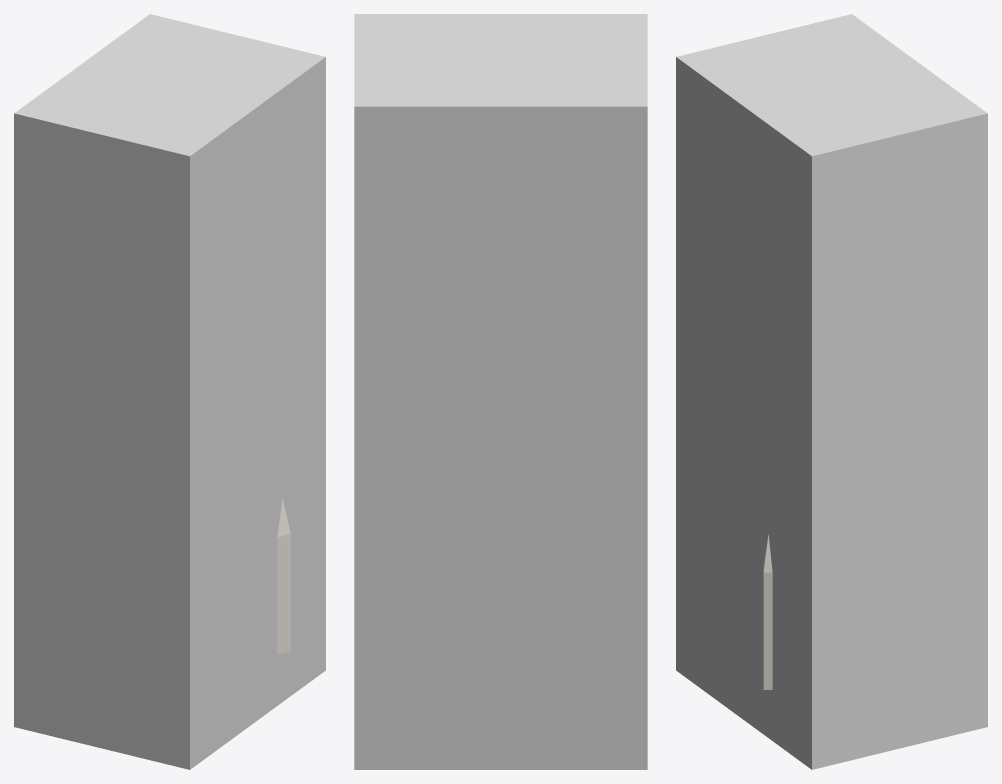
The model's file is npc_priest.fbx.
3 renders of one model, left to right at view 1: azimuth 30°, elevation 25°; view 2: azimuth 150°, elevation 25°; view 3: azimuth 270°, elevation 25°, orthographic. The views are drawn at different scales.
Parts seen in each view (by area): view 1: Root__0.07_3.00_0.08__2.41_6.00_1.80, Torso__Root__0.00_2.30_0.00; view 2: Root__0.07_3.00_0.08__2.41_6.00_1.80; view 3: Root__0.07_3.00_0.08__2.41_6.00_1.80, Torso__Root__0.00_2.30_0.00.
Part boxes in pixels (x1,y1,x2,y2): Root__0.07_3.00_0.08__2.41_6.00_1.80: [14, 14, 325, 769]; Torso__Root__0.00_2.30_0.00: [277, 498, 290, 654]; Root__0.07_3.00_0.08__2.41_6.00_1.80: [354, 14, 647, 769]; Root__0.07_3.00_0.08__2.41_6.00_1.80: [676, 14, 987, 769]; Torso__Root__0.00_2.30_0.00: [763, 534, 772, 689].
Size of the model in its own units: 83.57 by 169 by 77.33.
Materials: 2 (1 with a texture image).
